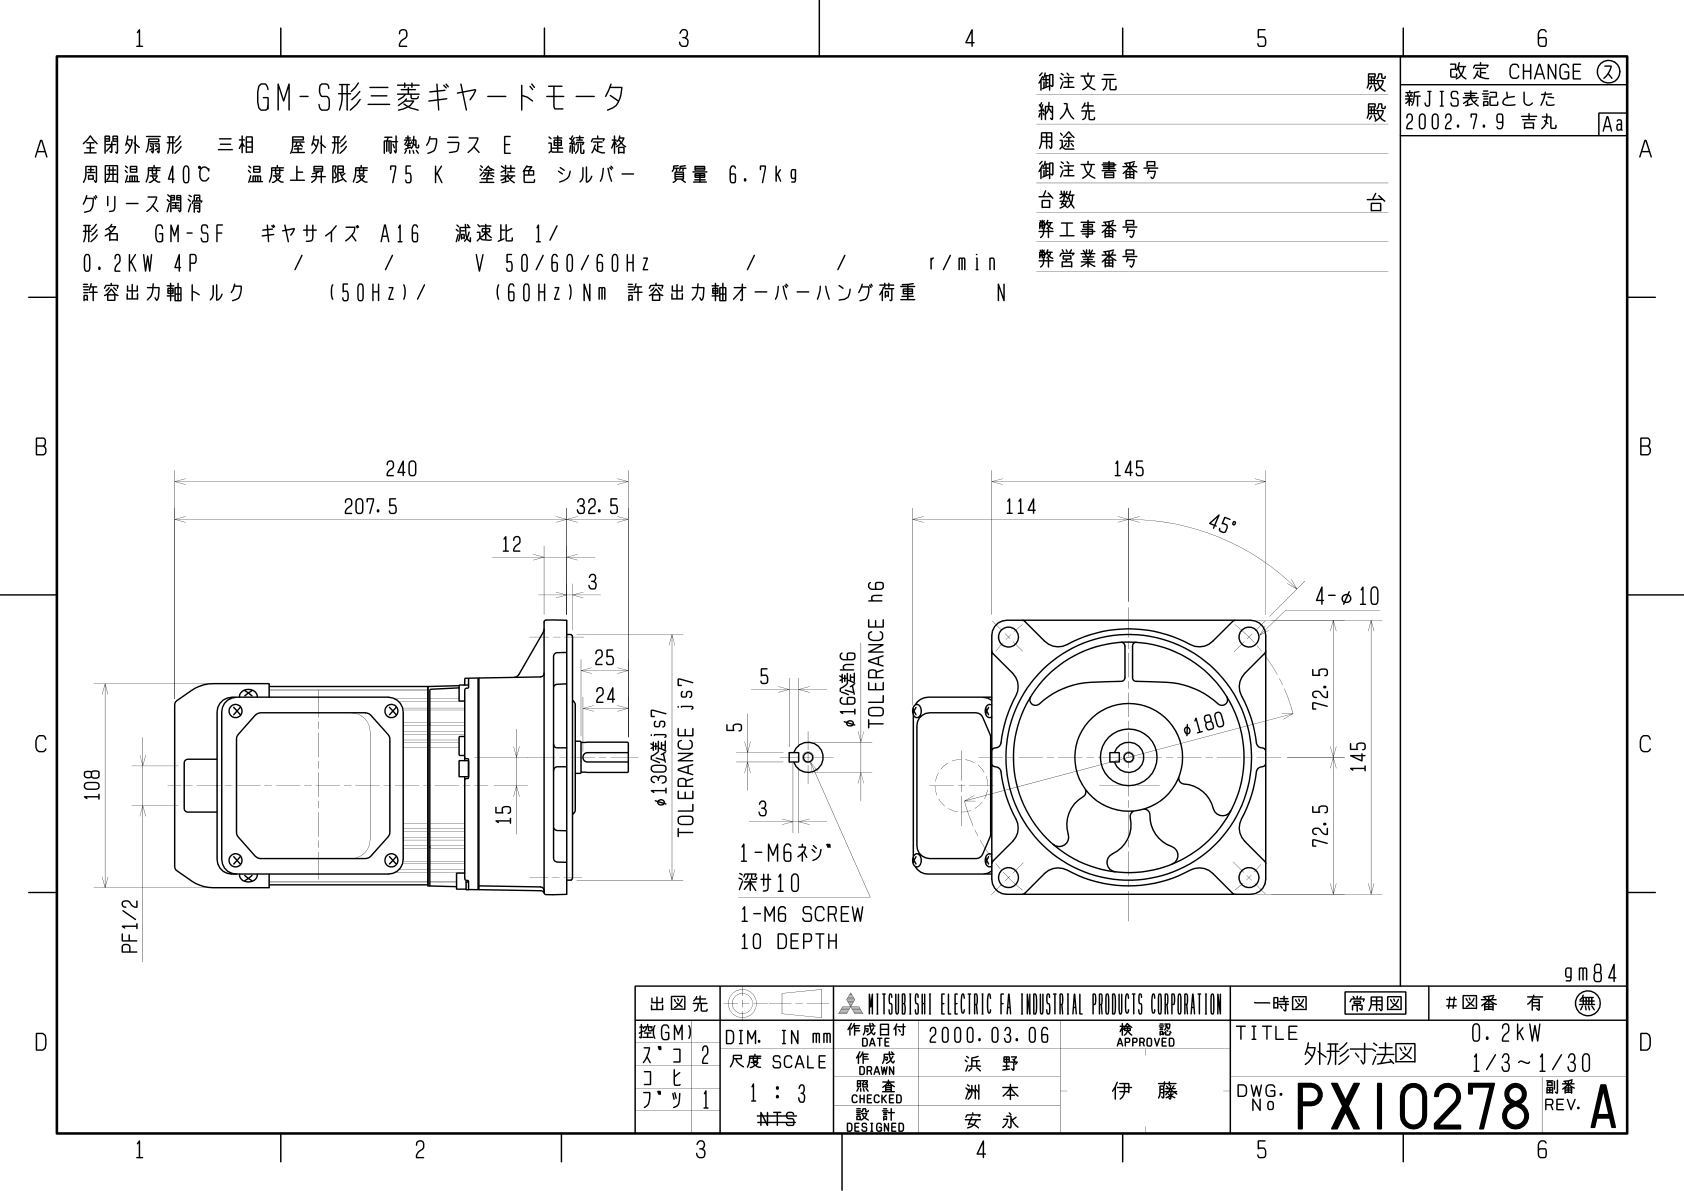GM_S_屋外＿三相_フランジ: (3, 5, 1684, 1191)
